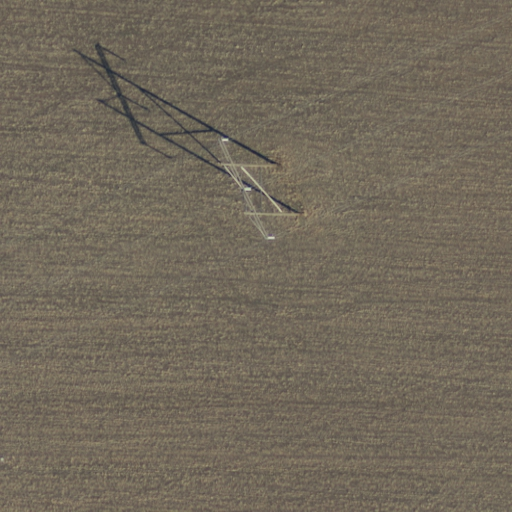TT: (210, 134, 308, 243)
